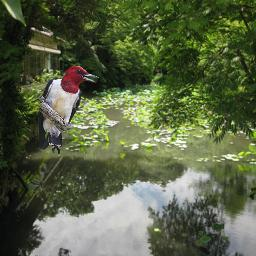Woodpecker: (36, 66, 101, 156)
